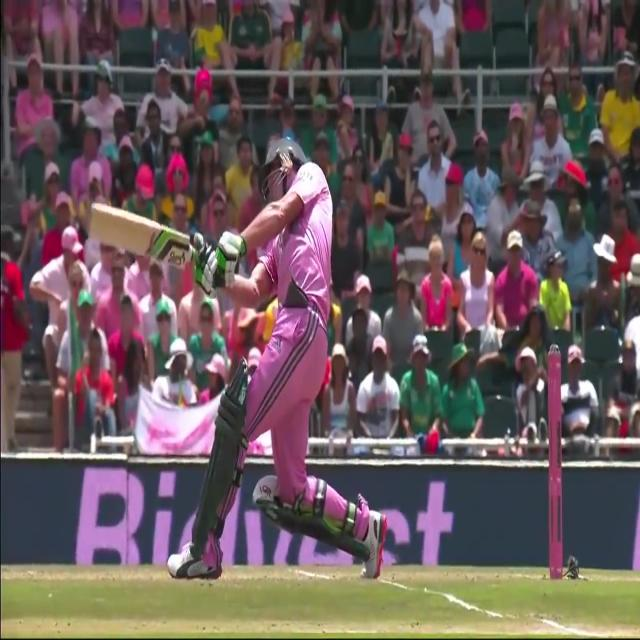Ball: (165, 137, 388, 583)
